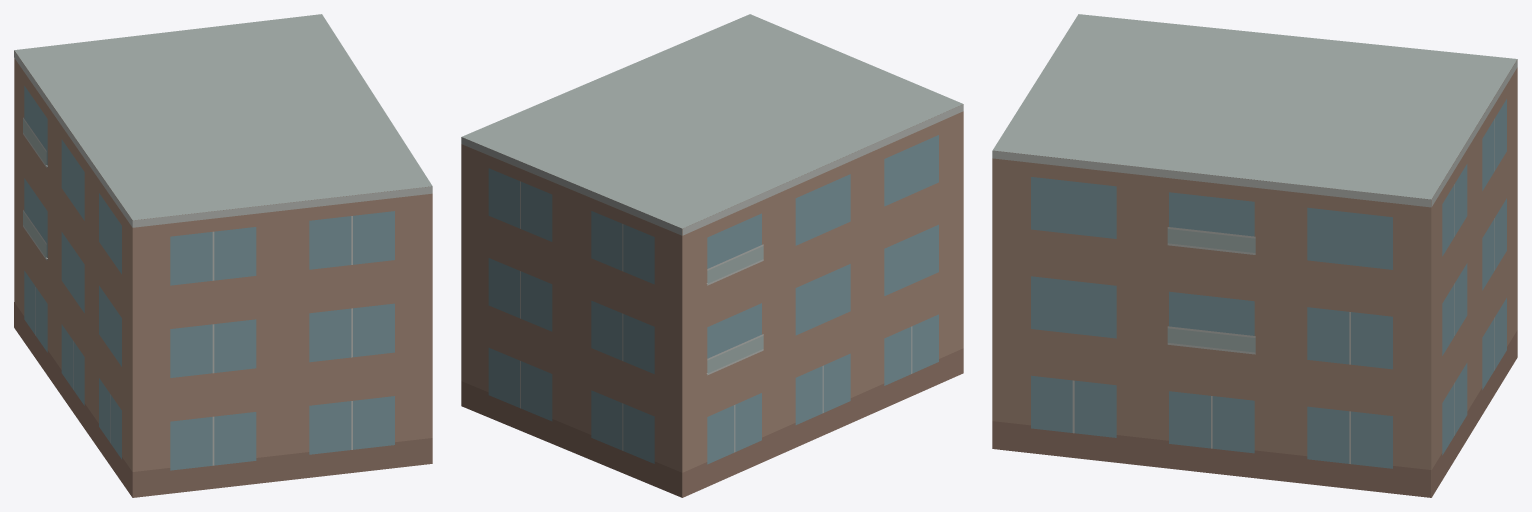
File: survey-upis-32952923.glb
The picture shows the model from 3 angles, left to right: view 1: azimuth 30°, elevation 25°; view 2: azimuth 150°, elevation 25°; view 3: azimuth 270°, elevation 25°; orthographic projection. The views are drawn at different scales.
Visible parts, largest first — view 1: survey-upis-32952923.tmp; view 2: survey-upis-32952923.tmp; view 3: survey-upis-32952923.tmp.
Part boxes in pixels (x1=…): survey-upis-32952923.tmp: x1=14, y1=14, x2=432, y2=497; survey-upis-32952923.tmp: x1=461, y1=14, x2=963, y2=497; survey-upis-32952923.tmp: x1=992, y1=14, x2=1517, y2=497.
Size of the model in its own units: 12.21 by 9.15 by 14.6.
